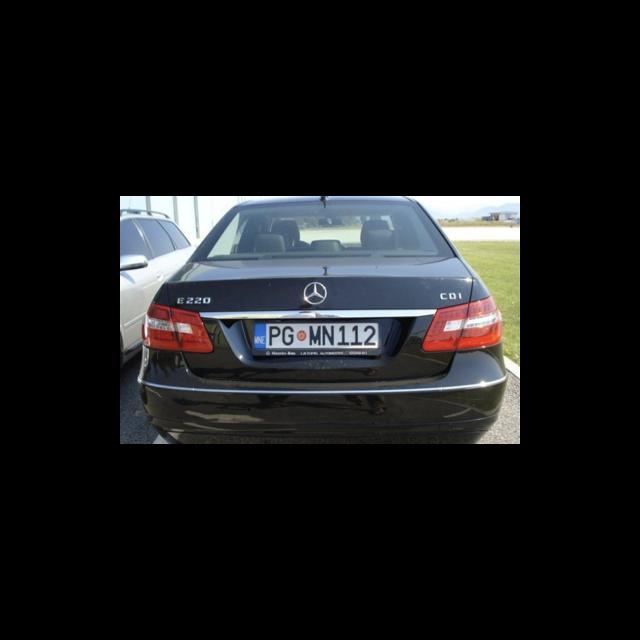Plate: (250, 318, 382, 355)
